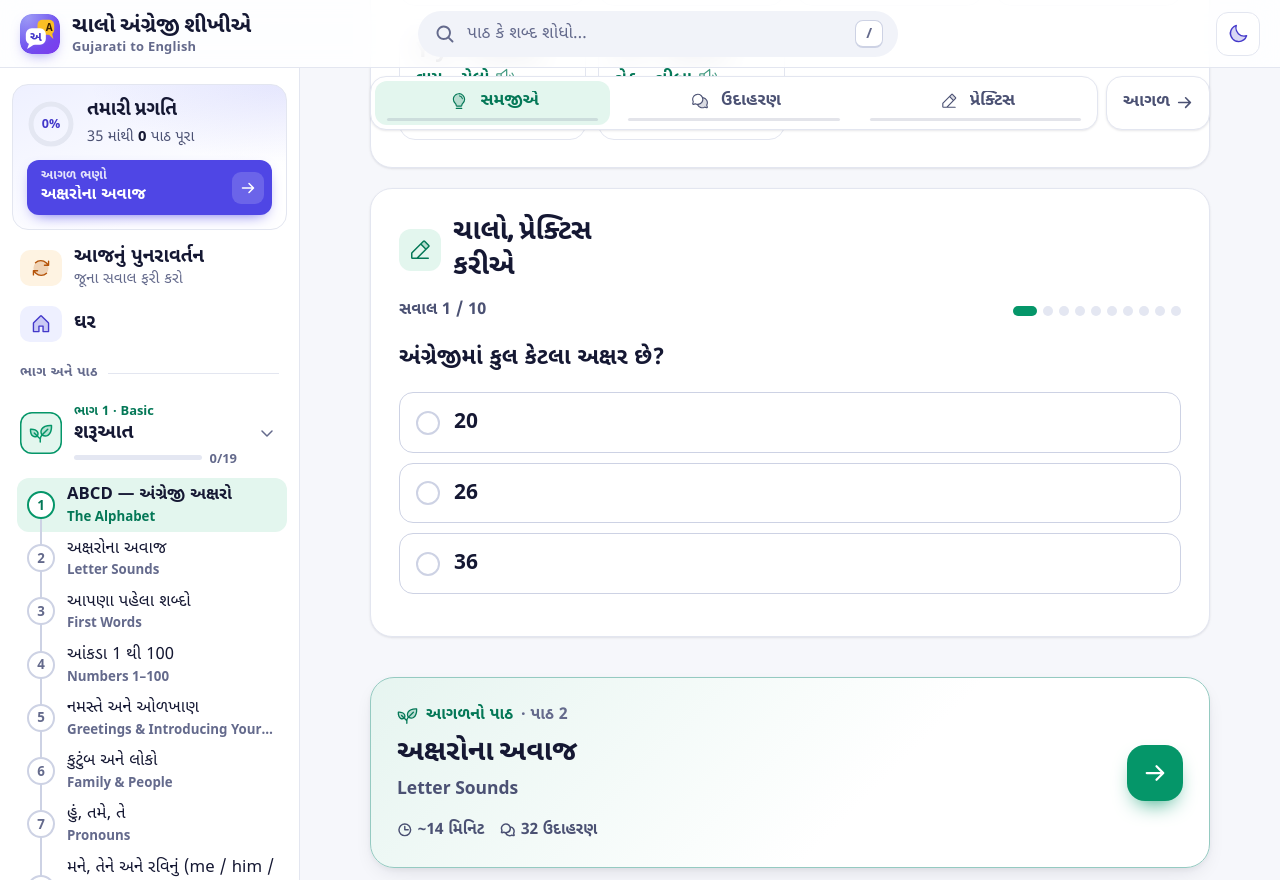
navigation and lesson › shows the right answer after a wrong pick
(page scrolled)
Click the button "20".
click(428, 423)  # box [399,392,1181,453]
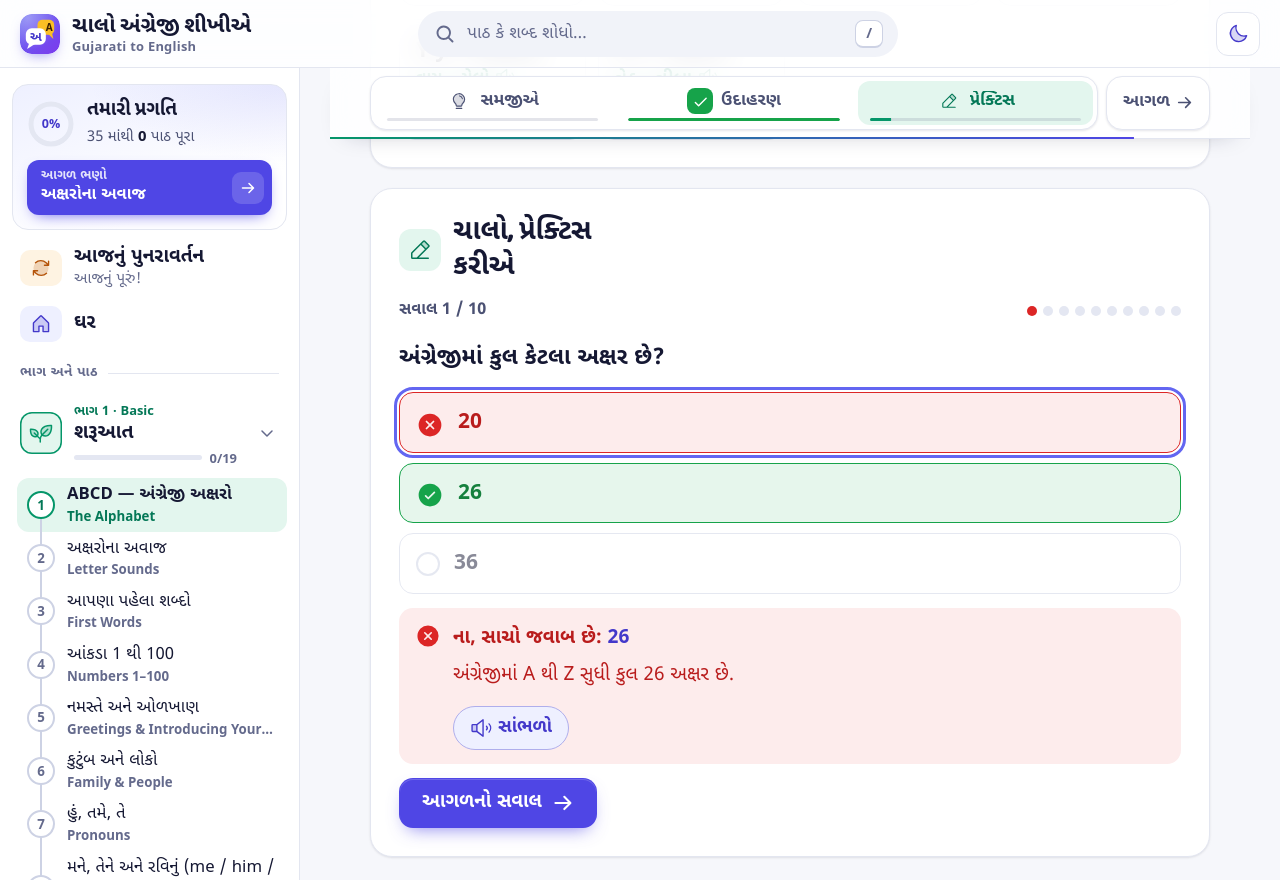
Expected: the text "ના, સાચો જવાબ છે: 26" is shown, [453,623,629,651]
